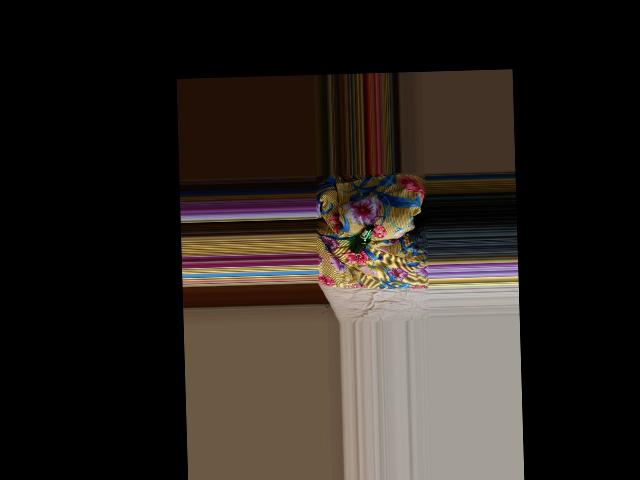beer: (349, 223, 374, 253)
